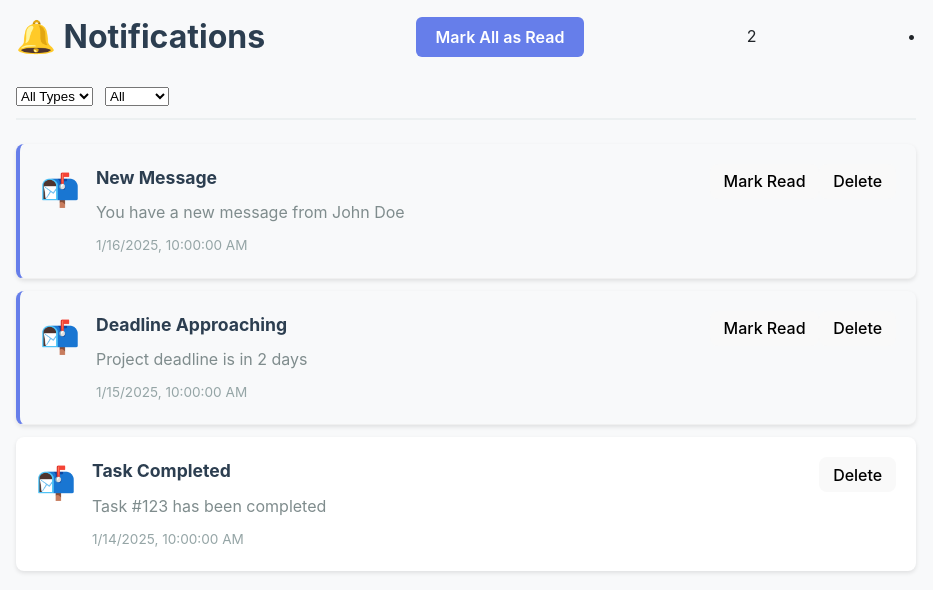
it: NotificationCenter Component › Actions › should mark all as read
Click the button with test id "mark-all-read". click: (500, 37)
box: [416,17,584,57]
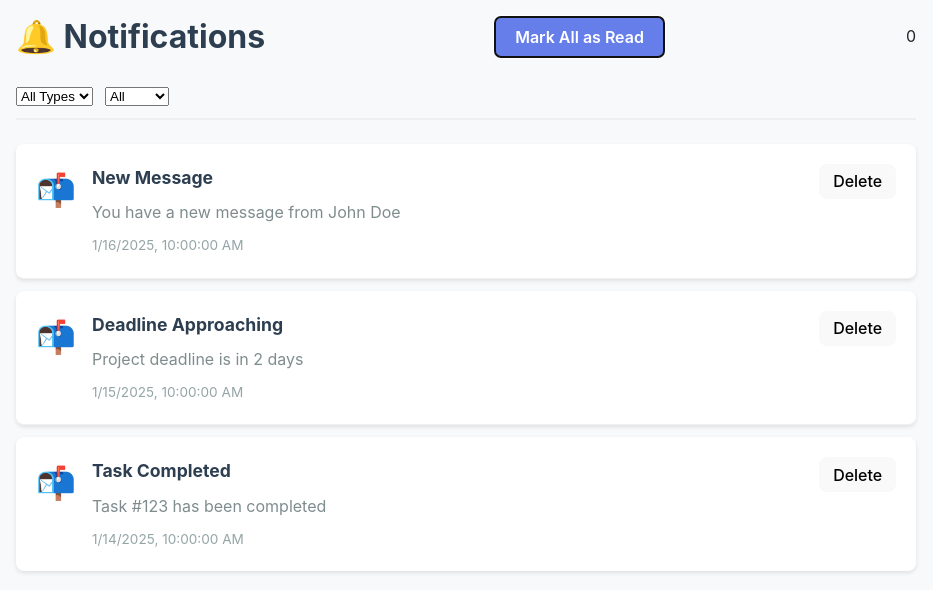
Expected: the text with test id "unread-count" reads "0", [906,26,916,46]
